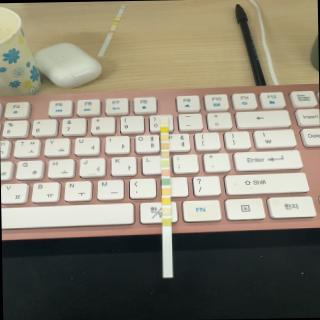mark: (160, 169, 170, 176), (162, 218, 170, 226), (161, 198, 170, 205), (161, 188, 170, 195), (162, 208, 171, 215), (162, 178, 170, 185), (160, 152, 169, 158), (160, 160, 168, 166), (160, 142, 168, 148), (160, 134, 168, 140), (160, 126, 168, 132), (160, 118, 168, 124)
